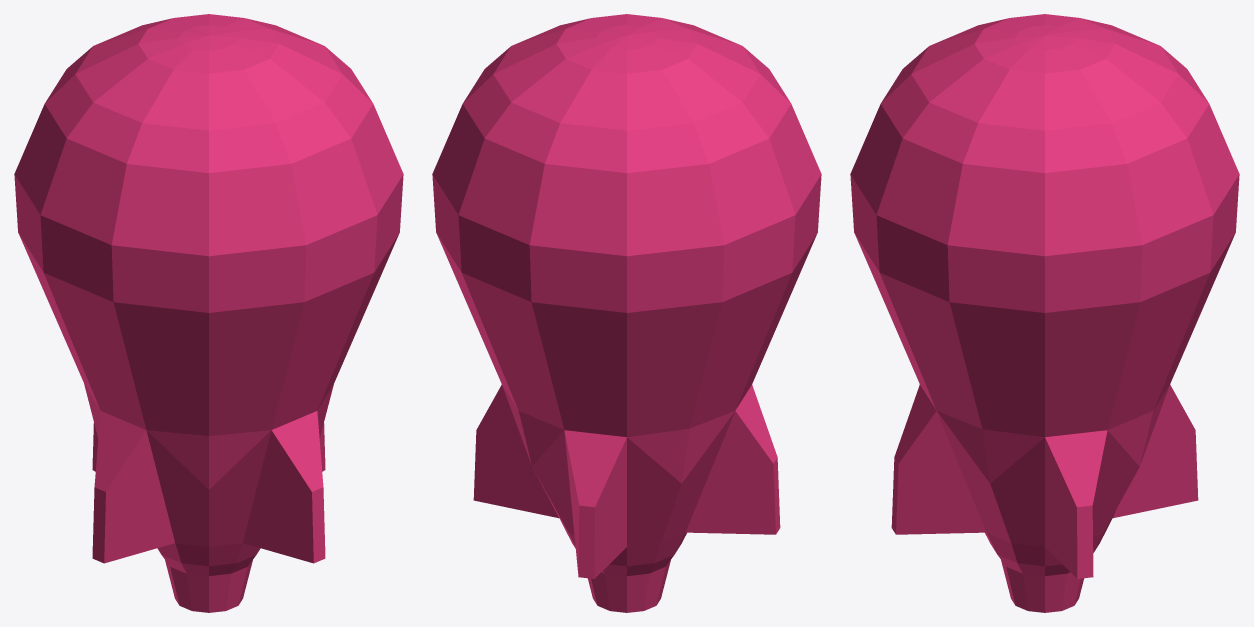
The model's file is Missile 6.fbx.
The picture shows the model from 3 angles, left to right: view 1: azimuth 30°, elevation 25°; view 2: azimuth 150°, elevation 25°; view 3: azimuth 270°, elevation 25°; orthographic projection.
Visible parts, largest first — view 1: Cube.002; view 2: Cube.002; view 3: Cube.002.
Part boxes in pixels (bbox=[...]): Cube.002: bbox=[14, 14, 403, 612]; Cube.002: bbox=[432, 14, 821, 612]; Cube.002: bbox=[850, 14, 1239, 612].
Size of the model in its own units: 650 by 1037 by 650.
